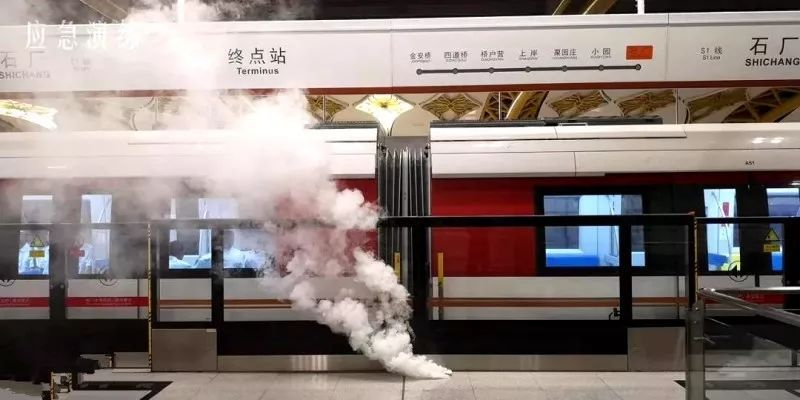smoke: (225, 100, 342, 191), (331, 304, 456, 382), (132, 10, 265, 42), (165, 58, 212, 146), (13, 177, 85, 222), (114, 180, 187, 223), (309, 193, 381, 234), (38, 89, 91, 144), (353, 254, 408, 300), (267, 201, 296, 284), (292, 263, 334, 298)
